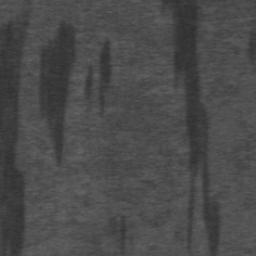Iron scale compression: (163, 0, 220, 256), (0, 0, 32, 256), (40, 23, 76, 168), (99, 37, 111, 114), (84, 44, 94, 113), (249, 28, 256, 66)
